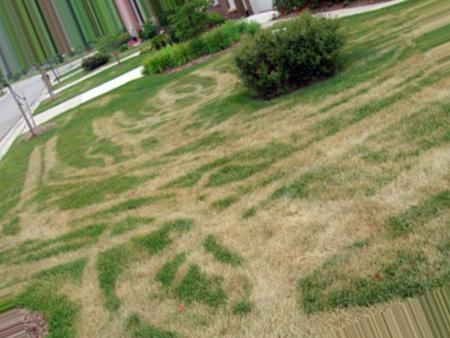patch: (322, 167, 436, 259), (195, 190, 301, 283), (318, 90, 442, 164), (85, 162, 169, 240), (179, 100, 251, 177), (107, 261, 179, 322), (200, 291, 300, 334), (31, 250, 100, 305), (26, 152, 63, 234), (98, 118, 172, 154), (263, 101, 307, 137), (273, 151, 302, 183)
